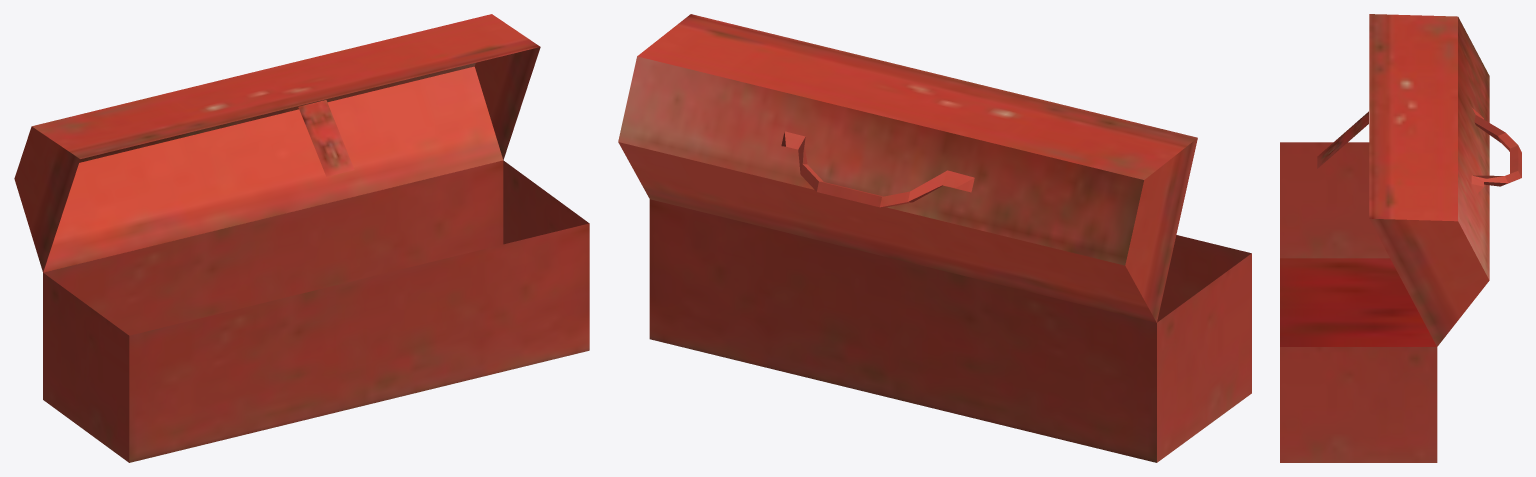
Rendered from ToolBoxOpenEmpty.obj.
3 renders of one model, left to right at view 1: azimuth 30°, elevation 25°; view 2: azimuth 150°, elevation 25°; view 3: azimuth 270°, elevation 25°, orthographic. The views are drawn at different scales.
Visible parts, largest first — view 1: ToolBox; view 2: ToolBox; view 3: ToolBox.
Boxes of the visible parts, box(x1,y1,x2,y2) form: ToolBox: box(14, 14, 589, 462); ToolBox: box(618, 14, 1251, 462); ToolBox: box(1280, 14, 1521, 462).
Bounding box in the file's own units: 1.95 × 1.08 × 0.9731.
1 material, 1 textured.
